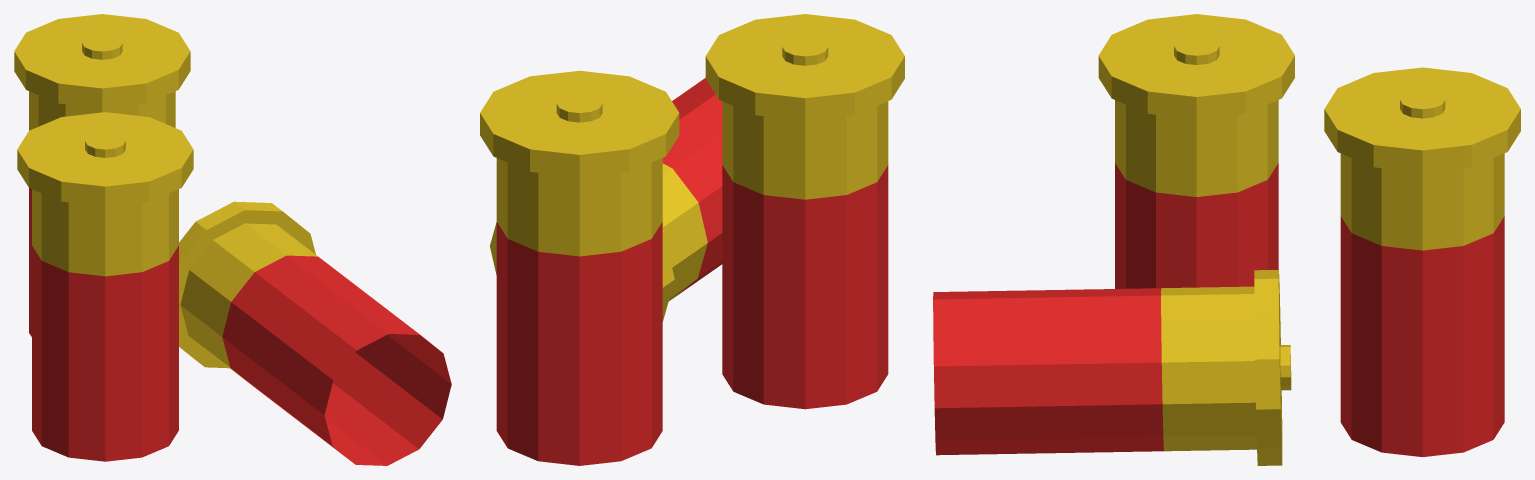
File: BulletAmmoBox2.fbx
3 renders of one model, left to right at view 1: azimuth 30°, elevation 25°; view 2: azimuth 150°, elevation 25°; view 3: azimuth 270°, elevation 25°, orthographic. The views are drawn at different scales.
Visible parts, largest first — view 1: Cylinder.002, Cylinder.003, Cylinder.001; view 2: Cylinder.002, Cylinder.001, Cylinder.003; view 3: Cylinder.001, Cylinder.003, Cylinder.002.
Part boxes in pixels (<box>): Cylinder.002: <box>17,112,193,461</box>; Cylinder.003: <box>179,201,451,465</box>; Cylinder.001: <box>14,14,190,336</box>; Cylinder.002: <box>705,14,904,409</box>; Cylinder.001: <box>480,70,679,465</box>; Cylinder.003: <box>490,78,722,321</box>; Cylinder.001: <box>1324,67,1520,457</box>; Cylinder.003: <box>933,270,1291,465</box>; Cylinder.002: <box>1098,14,1294,288</box>.
Size of the model in its own units: 500 by 435 by 718.
